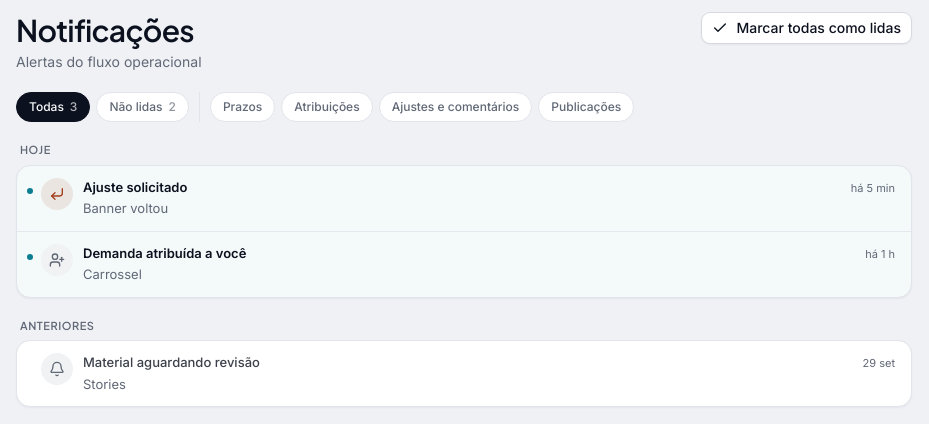
Test: NotificationsList › marcar todas zera as não lidas e desabilita o botão
Click the button "Marcar todas como lidas": (807, 28) 702,12 -> 912,44
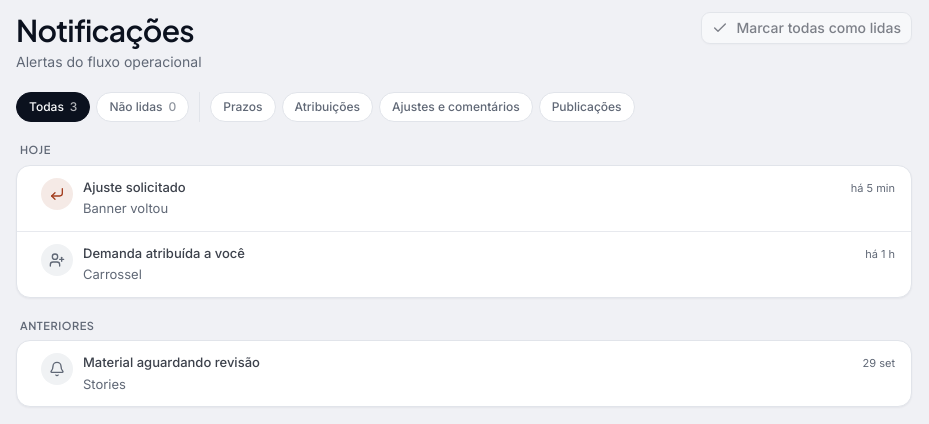
Now the button "Marcar todas como lidas" is disabled, box 702,12 -> 912,44
Now the button "Não lidas0" is shown, box 96,92 -> 189,122
